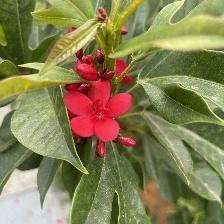jatropha: (64, 75, 135, 144)
